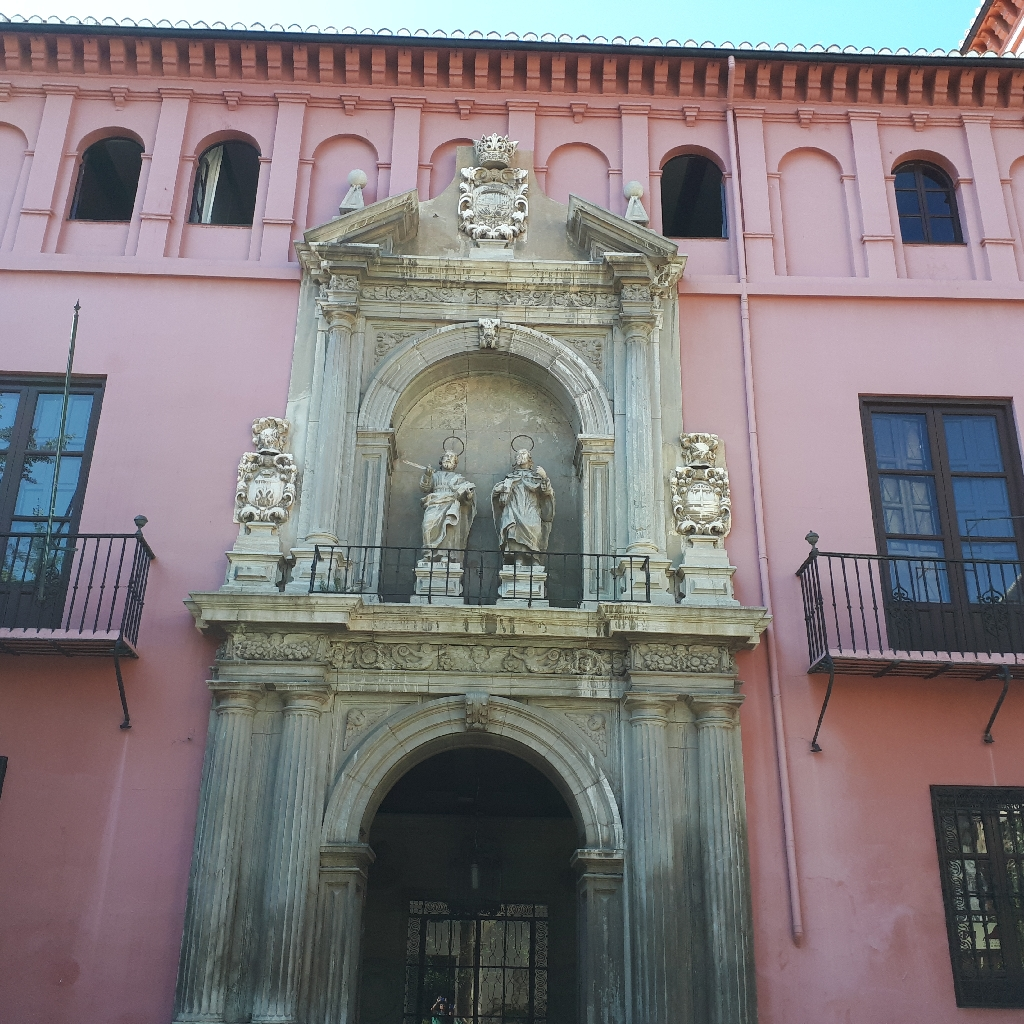arco-medio-punto: (346, 718, 601, 904), (378, 335, 600, 472)
fronton-partido: (298, 189, 683, 272)
